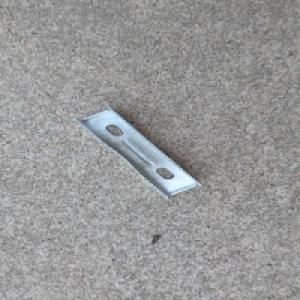ClampPart: (73, 105, 203, 198)
